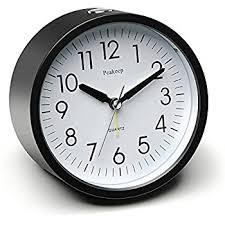alarm_clock: (5, 4, 211, 206)
